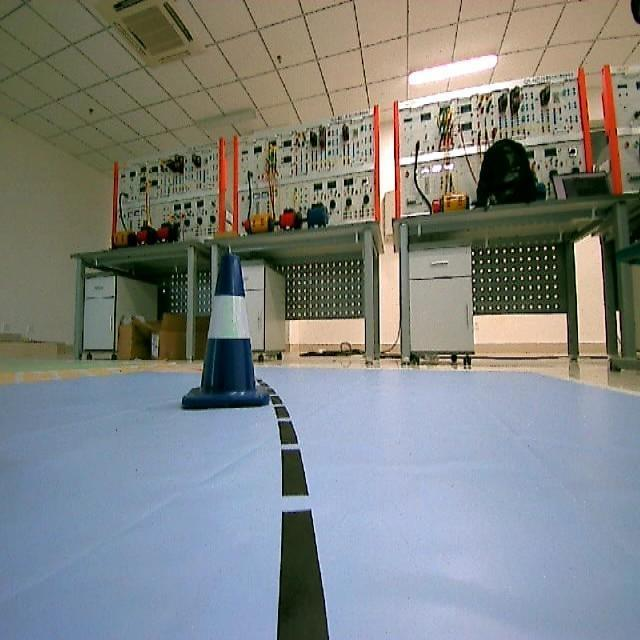obstacle: (172, 244, 277, 418)
